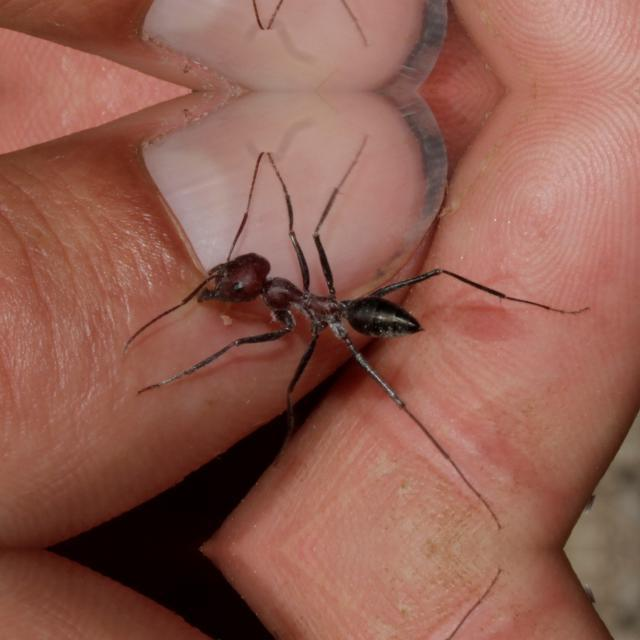Cataglyphis: (179, 228, 451, 372)
